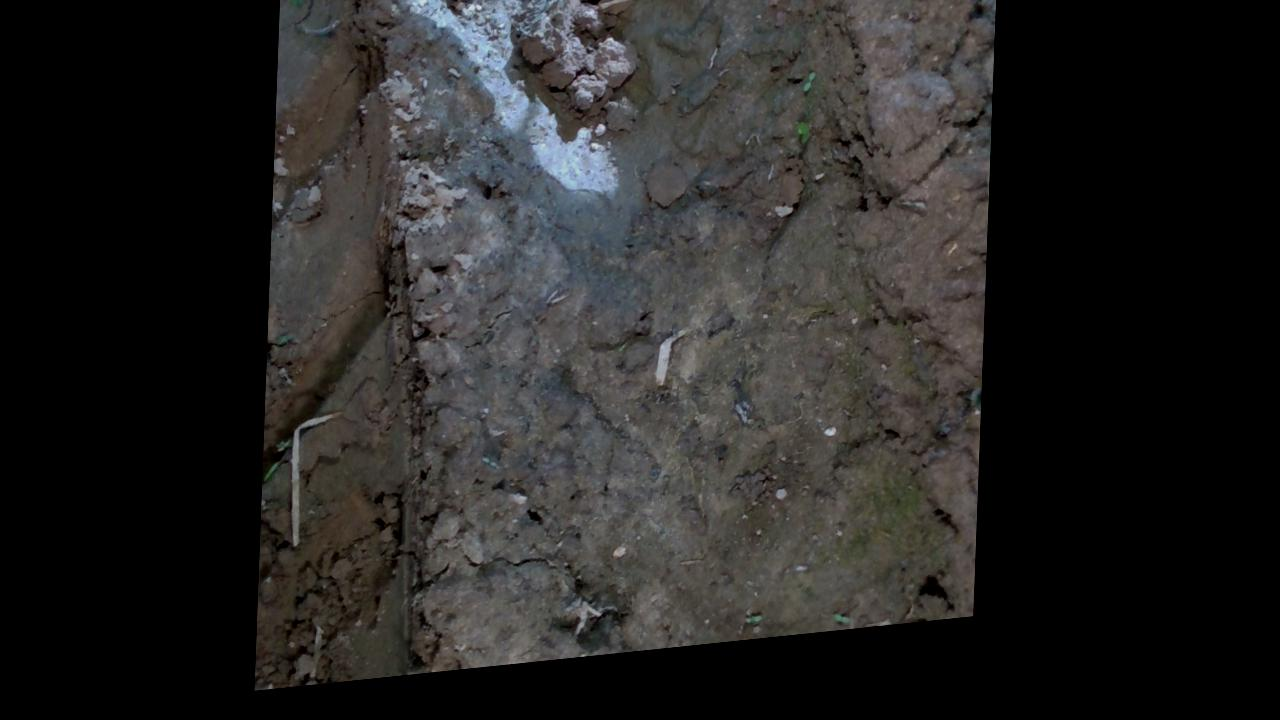weed: (804, 85, 821, 108), (837, 627, 857, 644), (749, 629, 770, 641)
